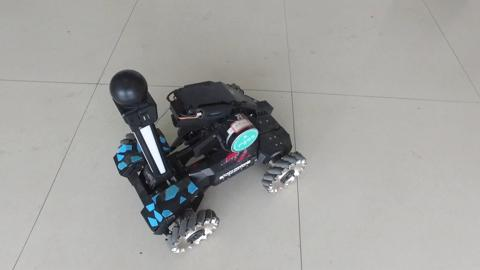chariot: (78, 47, 296, 264)
